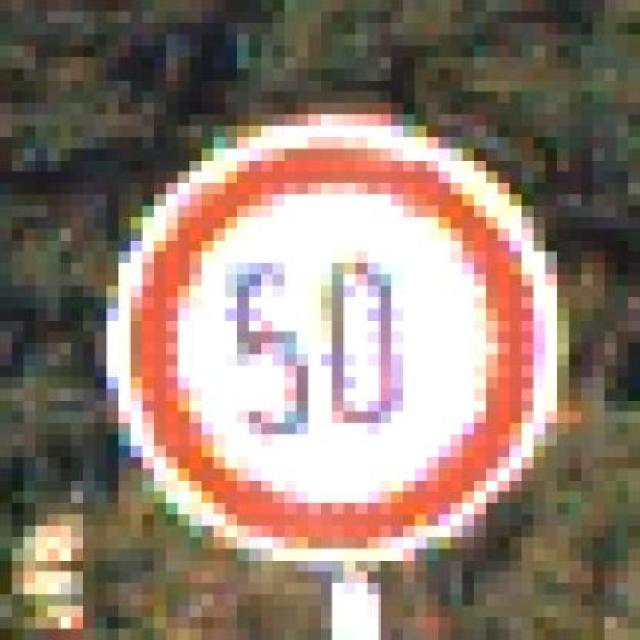Speed limit 50: (118, 109, 561, 560)
